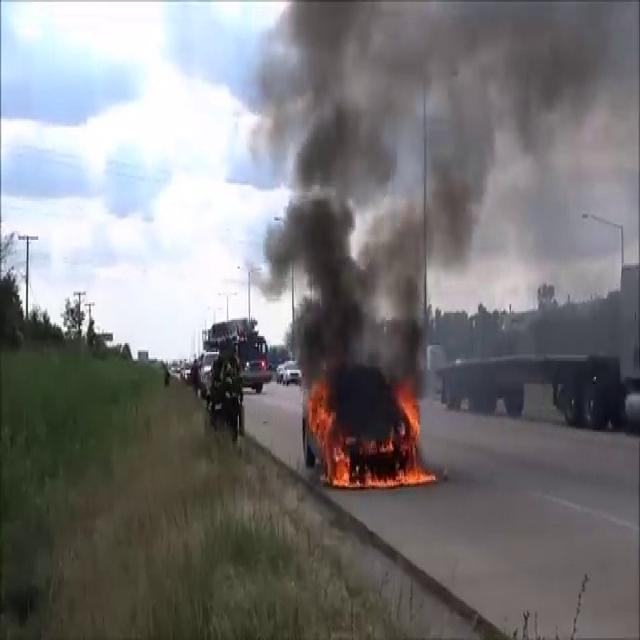Fire: (304, 378, 438, 490)
Smoke: (260, 1, 621, 380)
